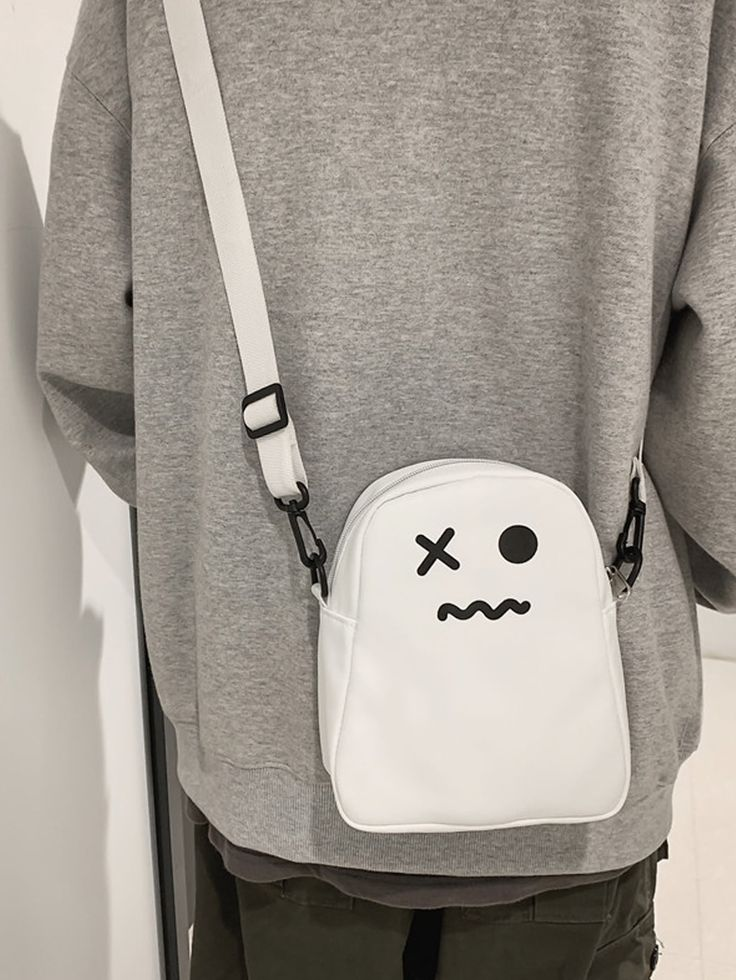nylon: (317, 457, 633, 833)
